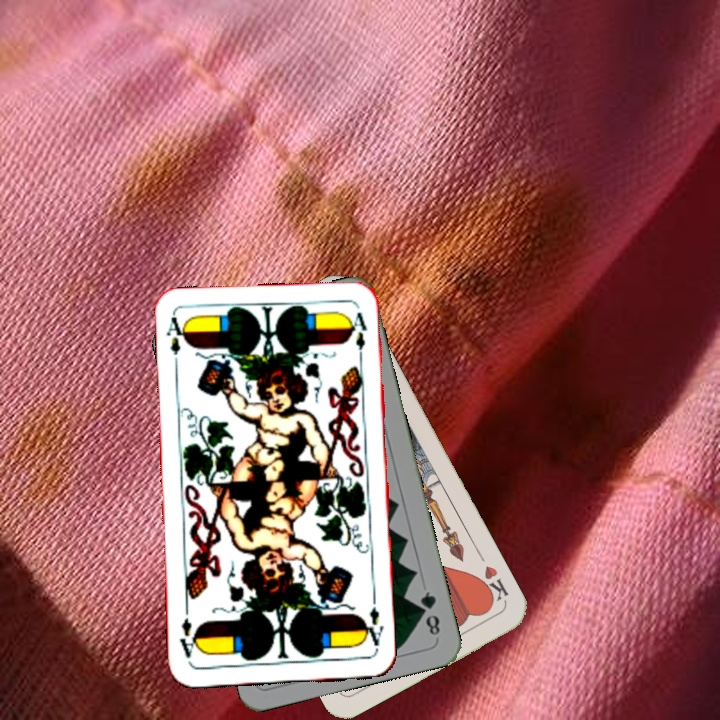EA: (162, 313, 190, 372), (359, 602, 386, 654)
G8: (416, 587, 443, 638)
HK: (474, 561, 512, 607)
